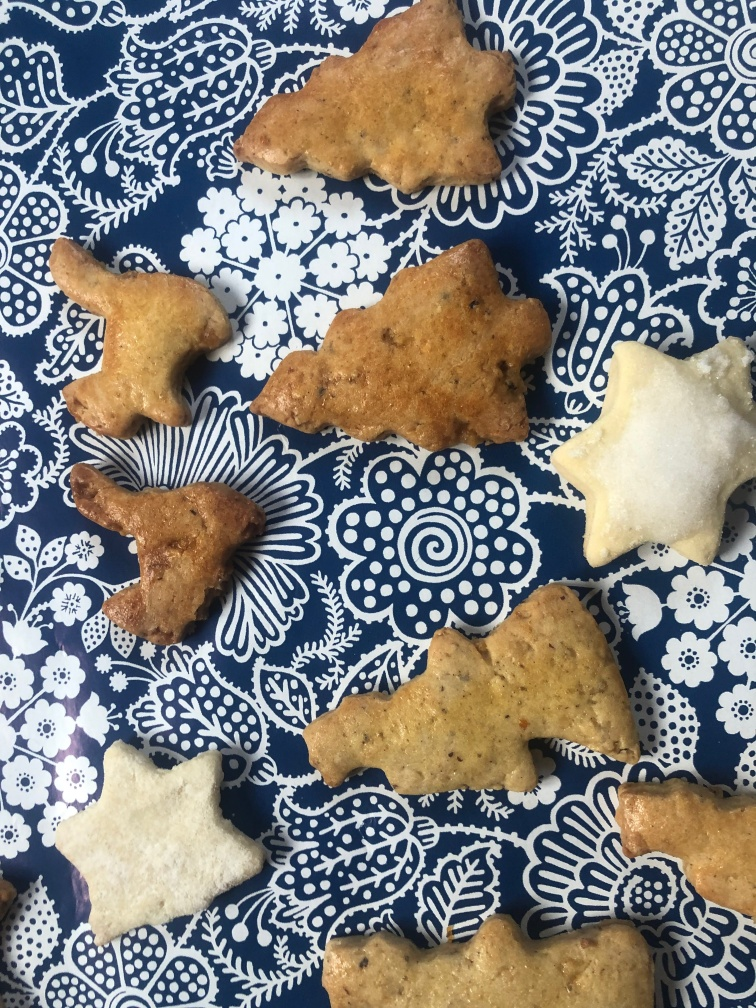christmas tree: (250, 238, 550, 449), (231, 1, 516, 193)
king mage: (302, 582, 637, 795), (321, 912, 658, 1008), (622, 778, 756, 916)
squirrel: (45, 232, 231, 434), (65, 462, 259, 646)
star: (553, 336, 753, 573), (45, 736, 260, 925)
